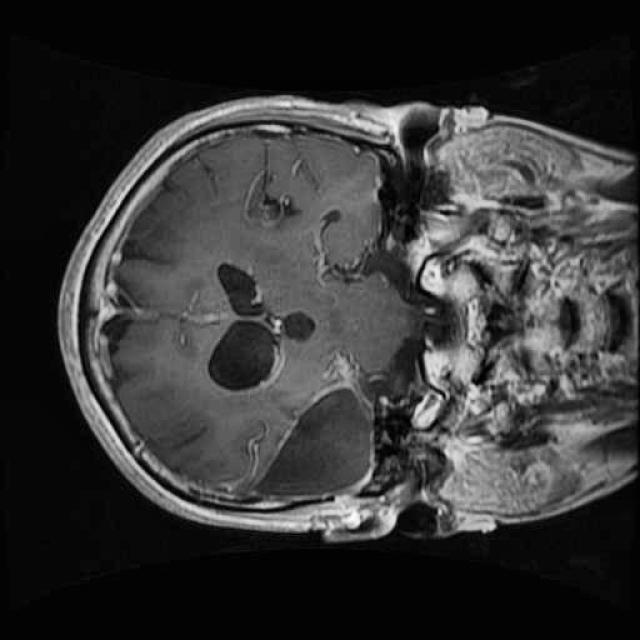Non-Tumor: (243, 371, 386, 515)
